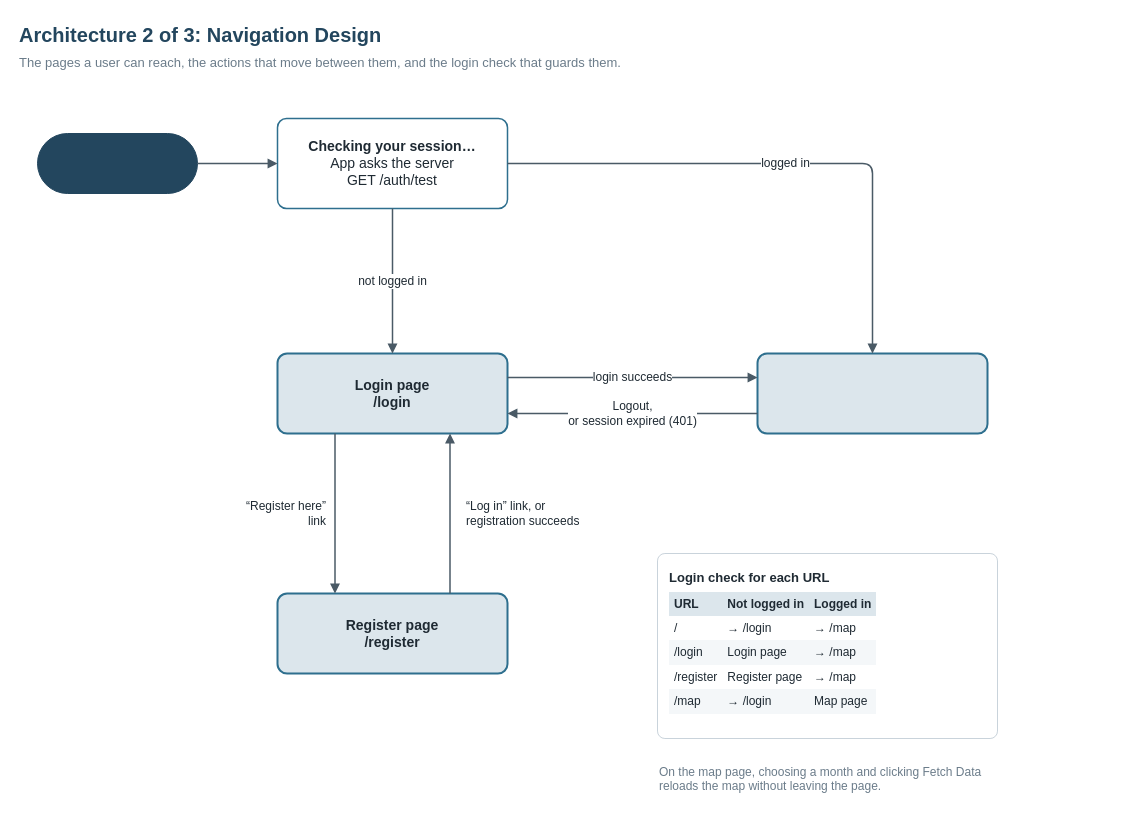
The diagram is 1134 pixels wide and 825 high, and some of its shapes have lost their labels. The centre of each missing label's shape, as x and y in pixels:
Map page /map logged-in users only: point (872, 393)
Open the site (any URL): point (117, 163)
